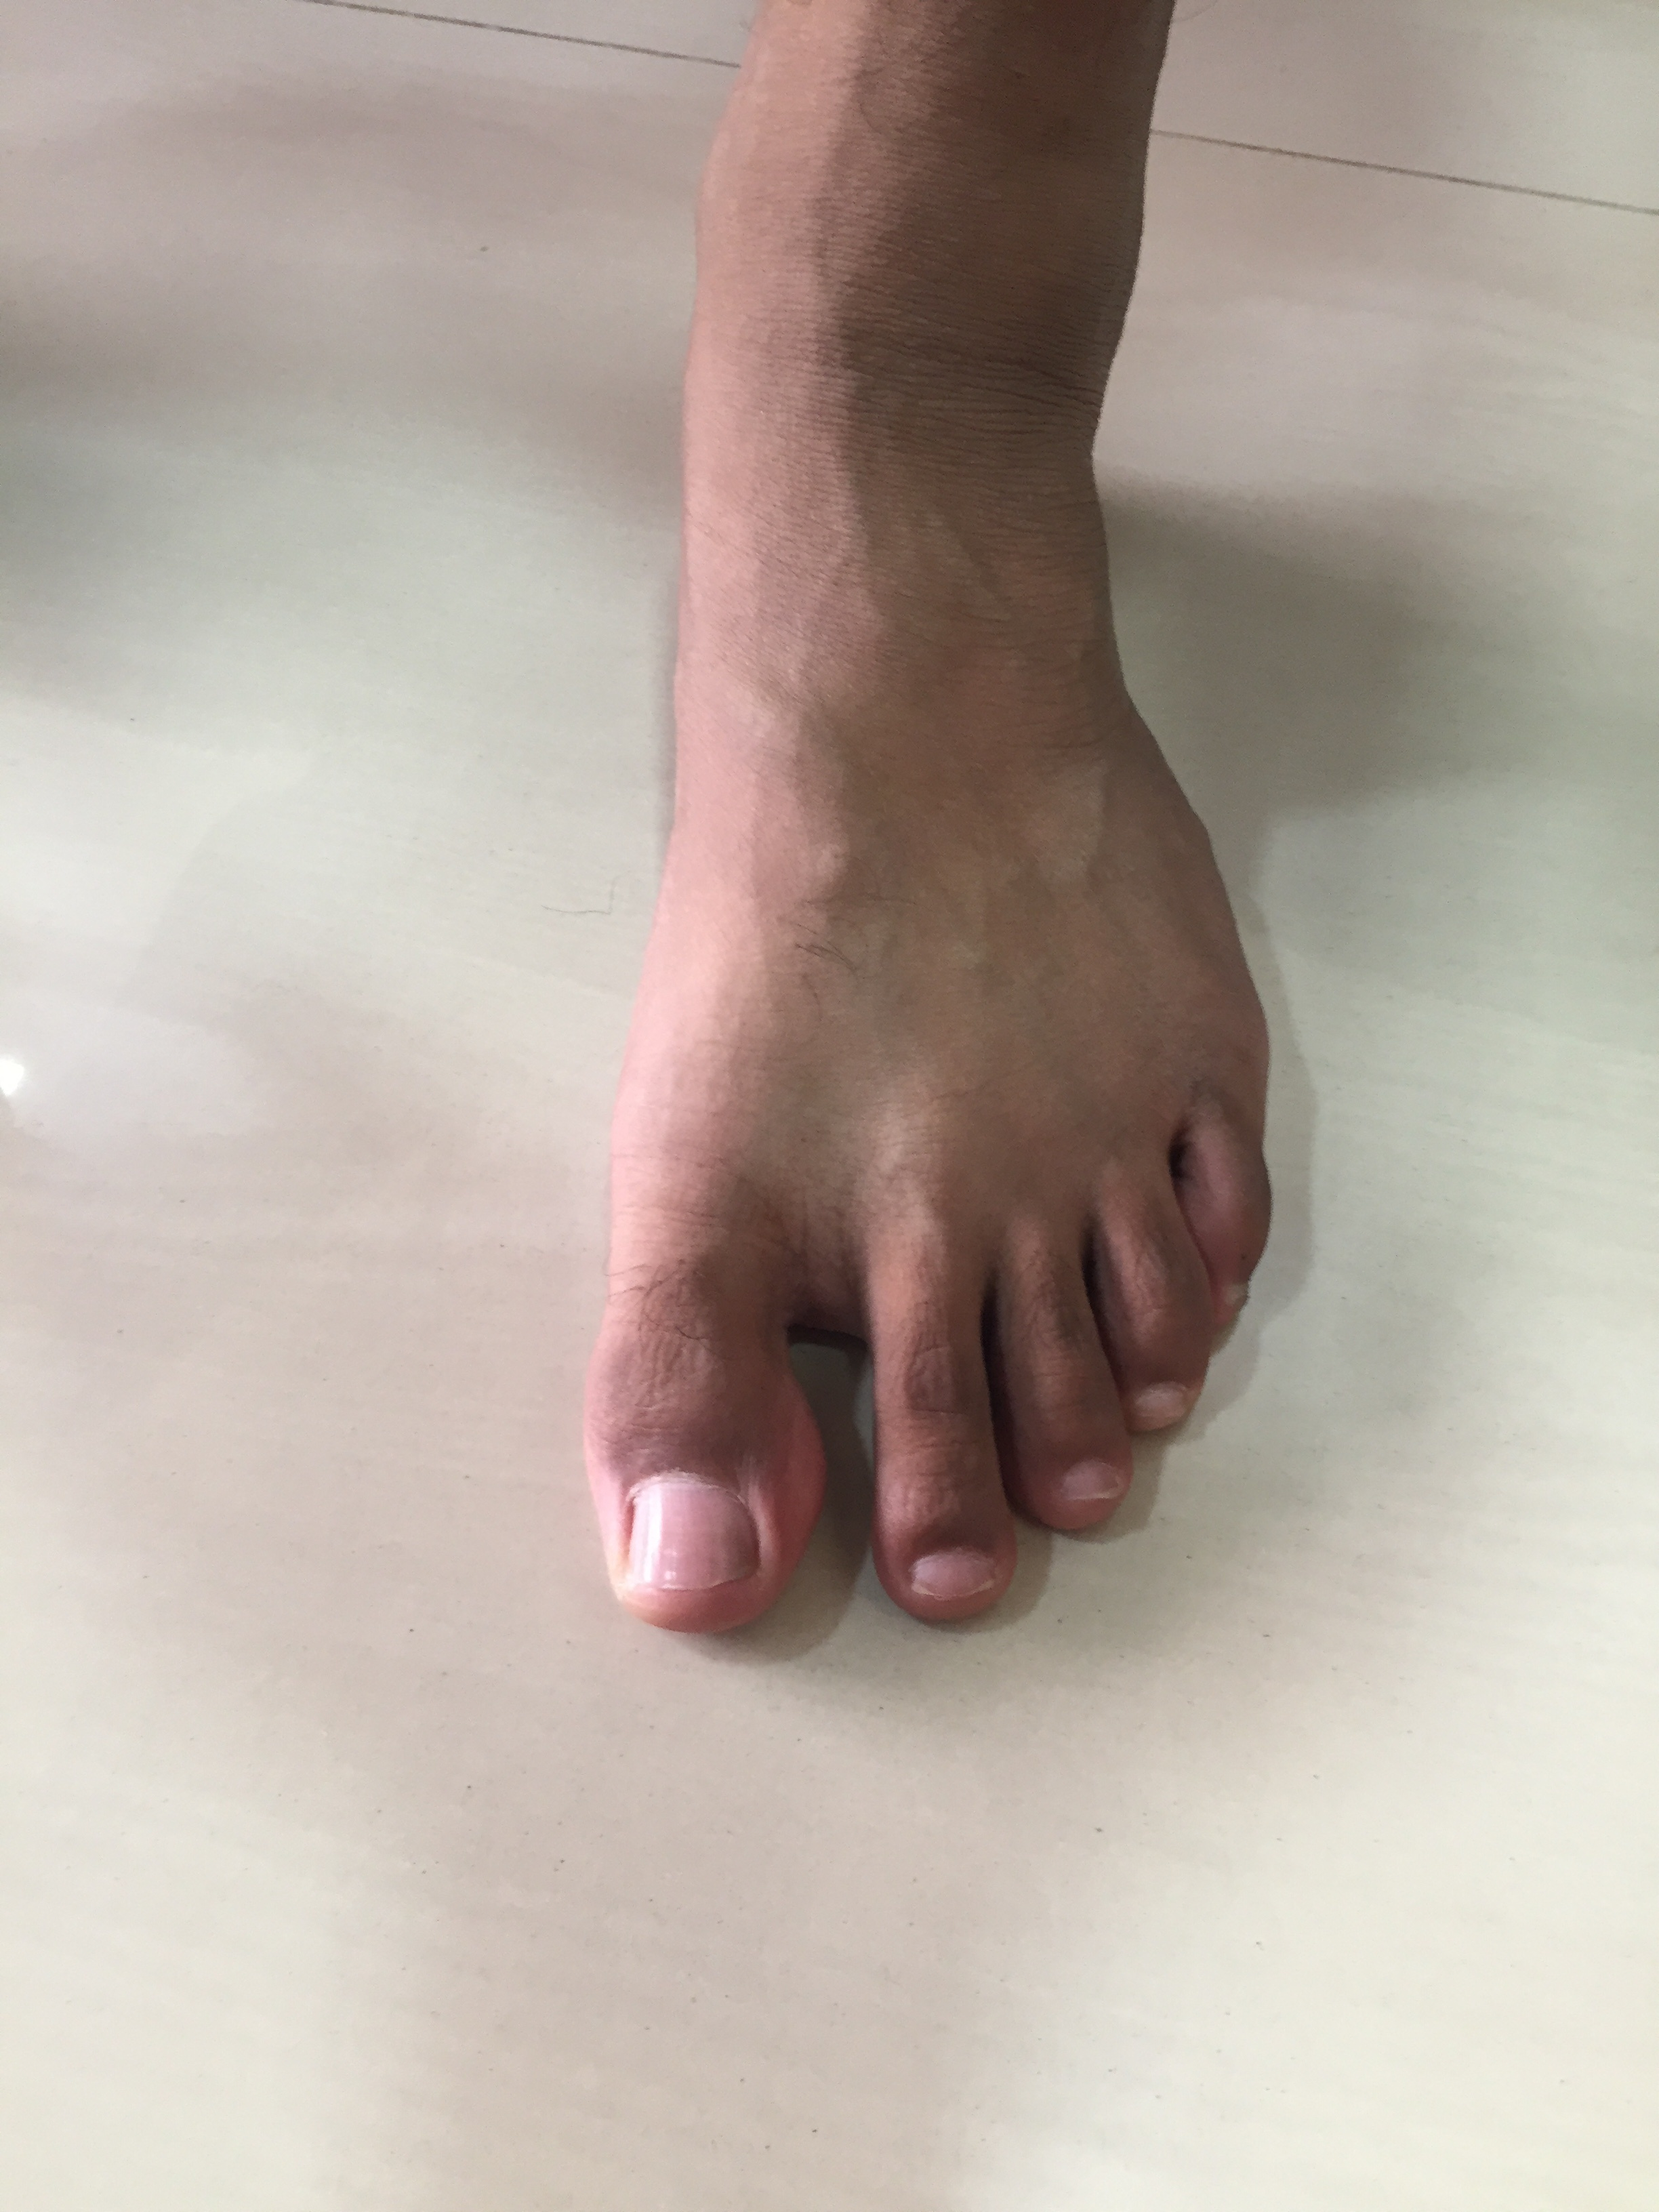feet: (500, 139, 1290, 1660)
